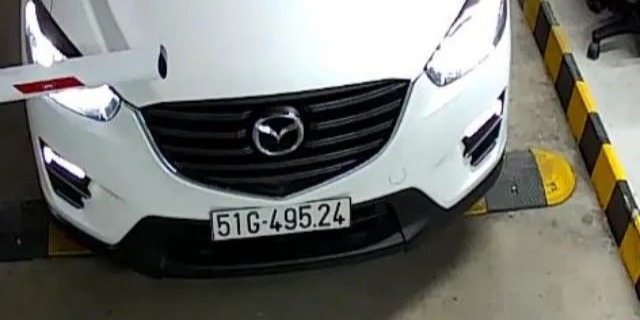bien_so: (214, 200, 347, 237)
